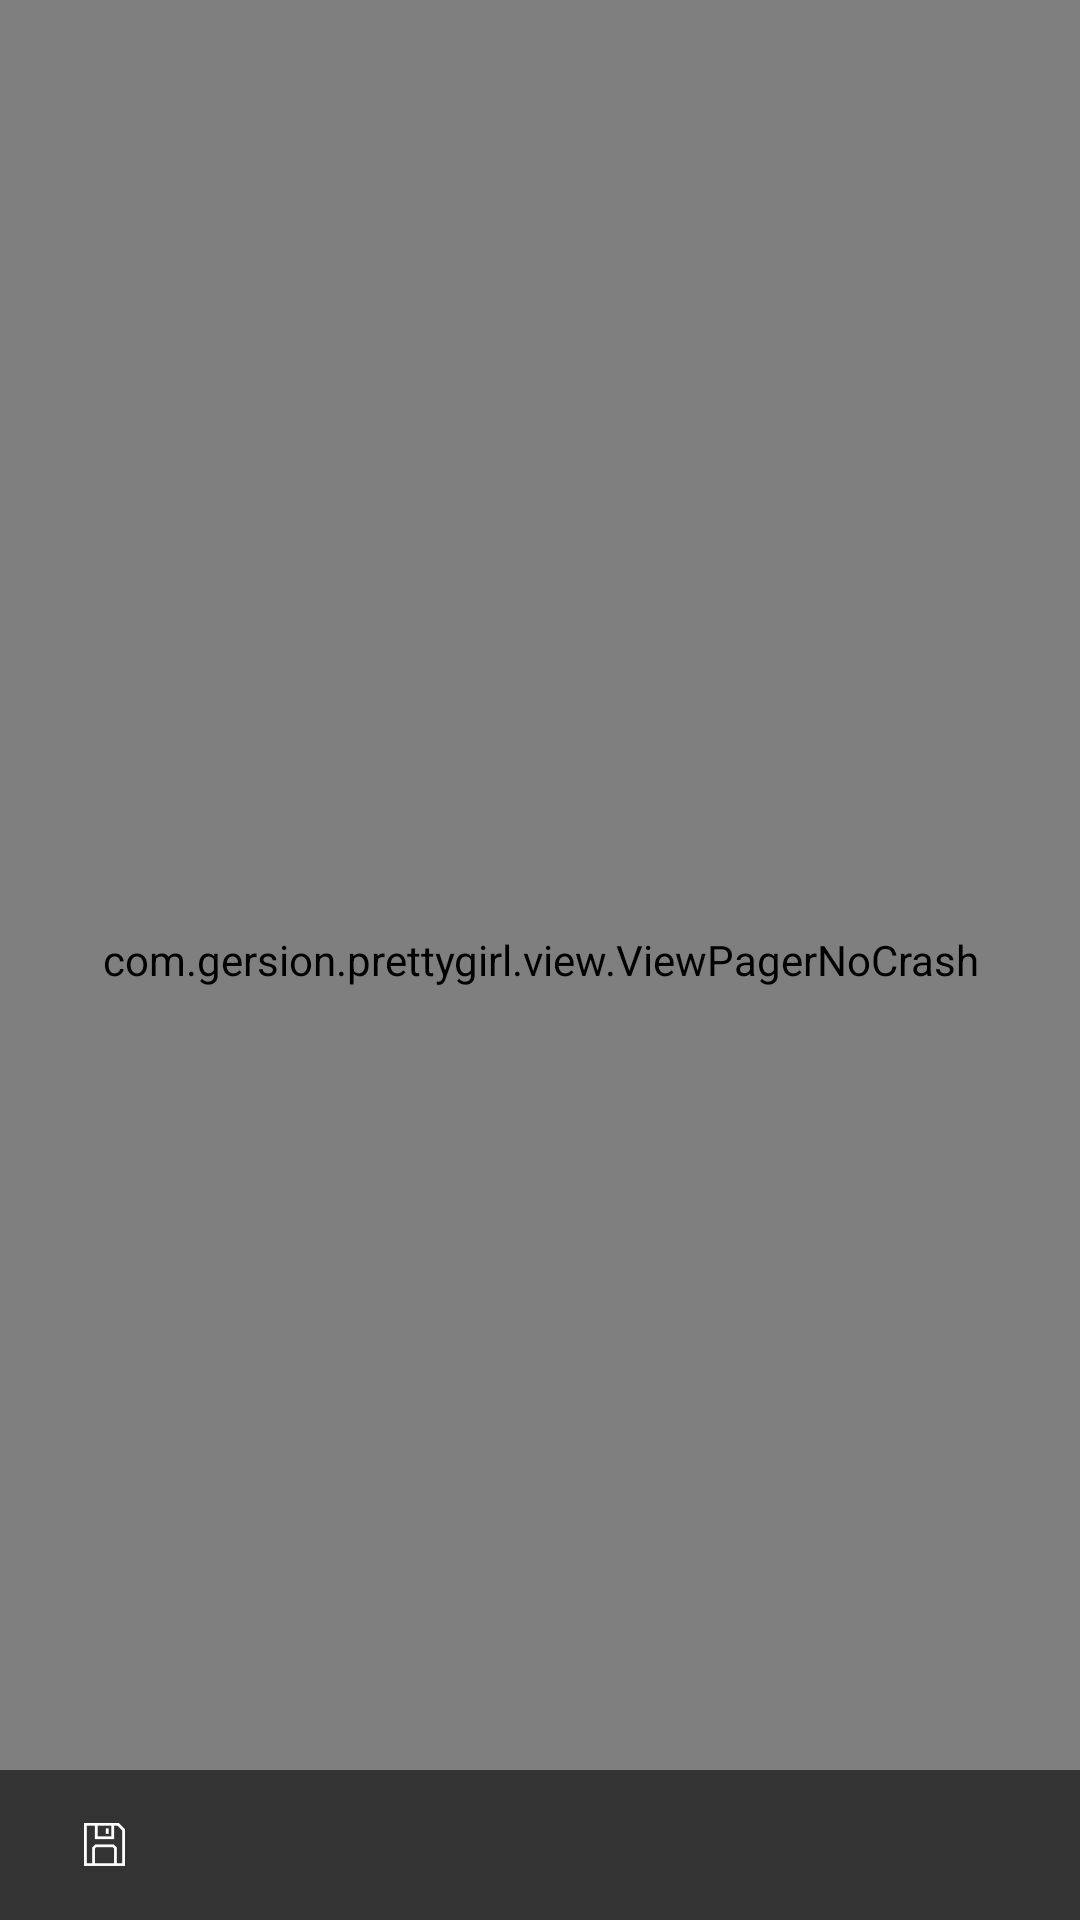

Icons on this 1080px×1920px Android screen, each with its box as [x1,y1,x2,y2]:
save: [84,1823,125,1866]
